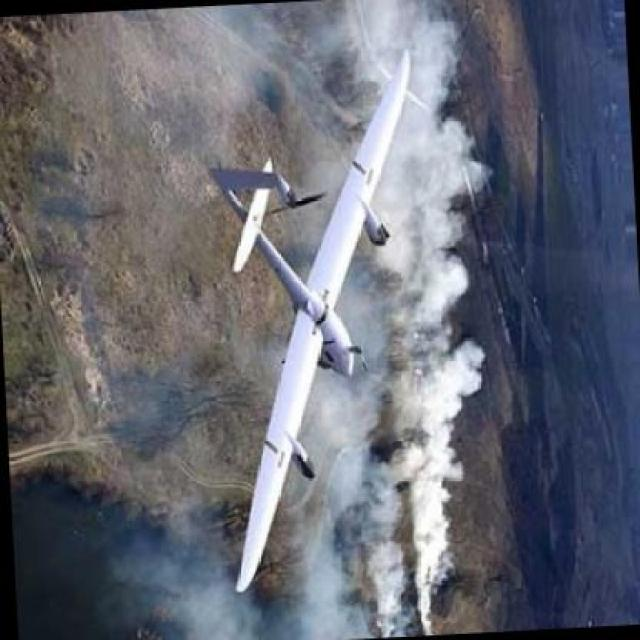iha: (221, 34, 415, 599)
